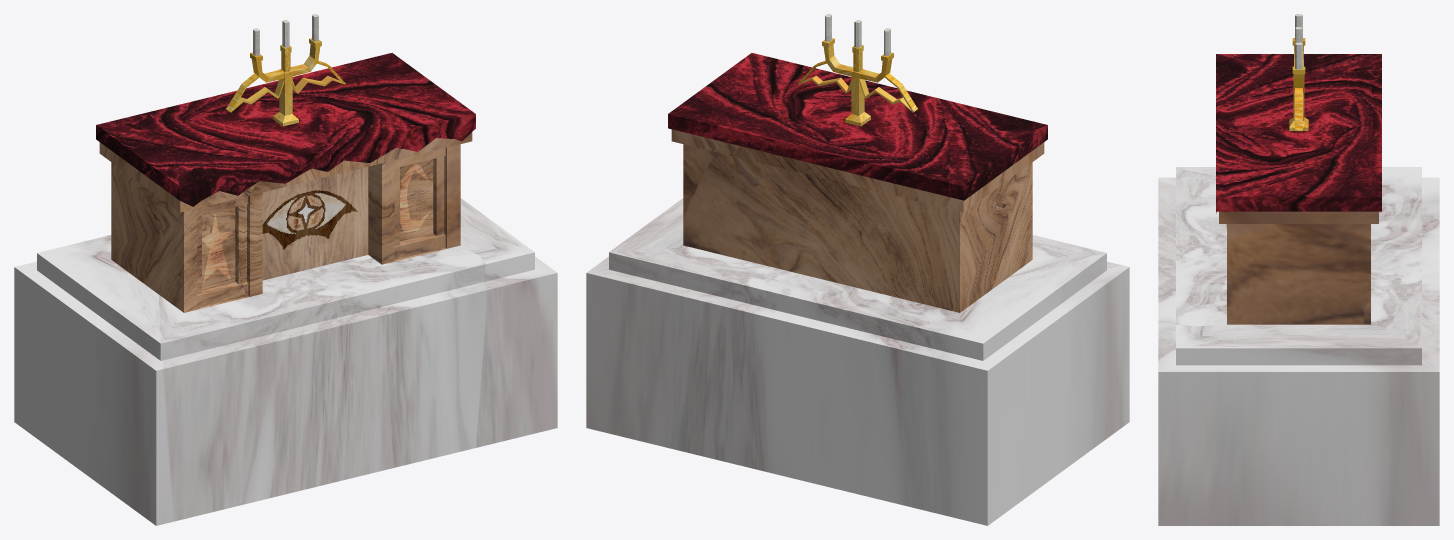
Rendered from altar.fbx.
3 views of the same model, side by side, from view 1: azimuth 30°, elevation 25°; view 2: azimuth 150°, elevation 25°; view 3: azimuth 270°, elevation 25° (orthographic).
Visible parts, largest first — view 1: Cube, Cube.001; view 2: Cube, Cube.001; view 3: Cube, Cube.001.
Part boxes in pixels (left/top/right/bottom): Cube: left=14, top=53, right=557, bottom=525; Cube.001: left=226, top=14, right=345, bottom=126; Cube: left=586, top=53, right=1129, bottom=525; Cube.001: left=798, top=14, right=917, bottom=126; Cube: left=1158, top=54, right=1439, bottom=525; Cube.001: left=1289, top=14, right=1308, bottom=131.
Bounding box in the file's own units: 639 × 614 × 391.
